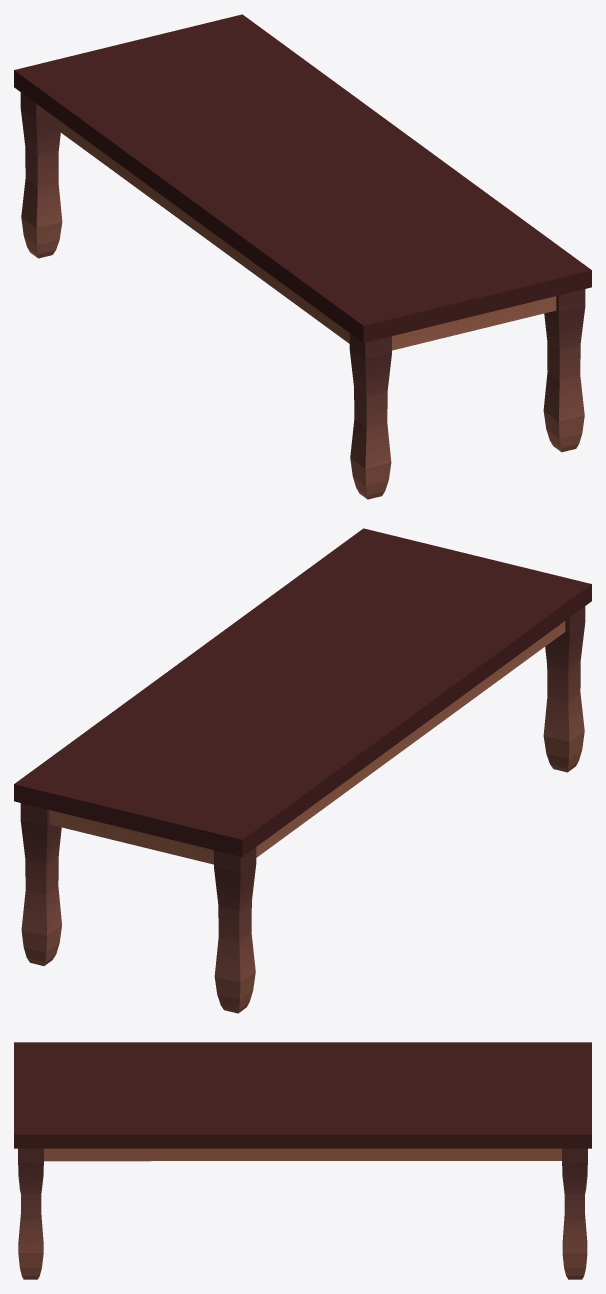
File: Table_0_B.fbx
3 views of the same model, one above another, from view 1: azimuth 30°, elevation 25°; view 2: azimuth 150°, elevation 25°; view 3: azimuth 270°, elevation 25° (orthographic). The views are drawn at different scales.
Parts seen in each view (by area): view 1: Table_0_B; view 2: Table_0_B; view 3: Table_0_B.
Part boxes in pixels (x1=…): Table_0_B: x1=14, y1=14, x2=591, y2=499; Table_0_B: x1=14, y1=528, x2=591, y2=1013; Table_0_B: x1=14, y1=1042, x2=591, y2=1279.
Size of the model in its own units: 99.37 by 75 by 263.
